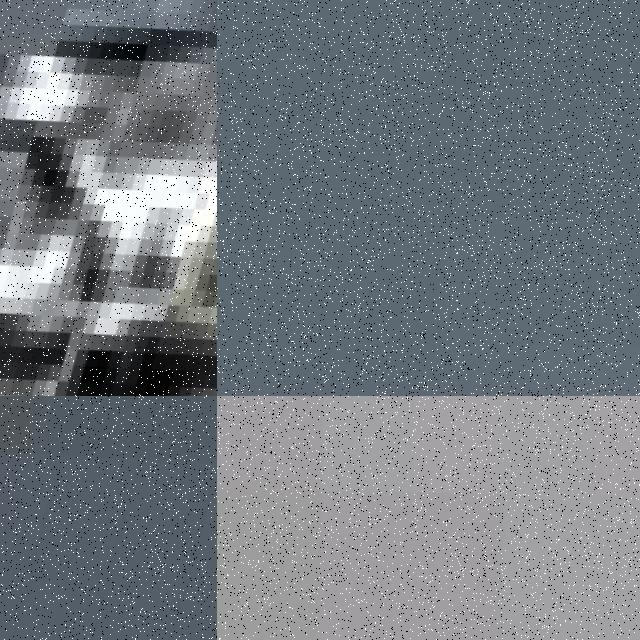drone: (0, 0, 217, 396), (0, 396, 217, 640)
